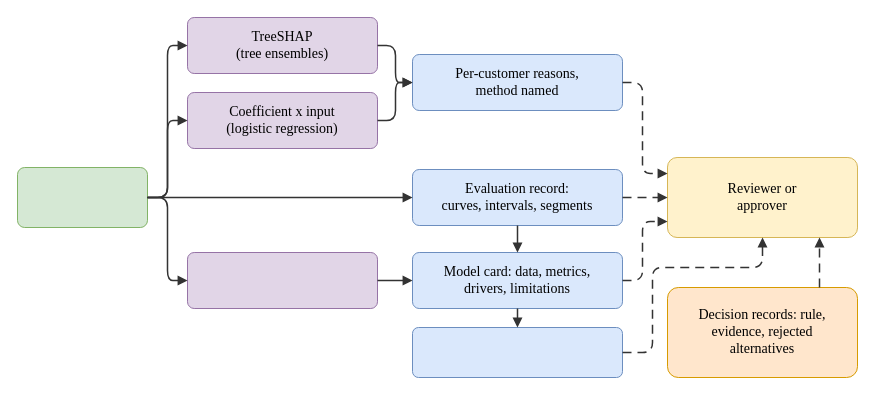
The diagram is 875 pixels wide and 395 high, and some of its shapes have lost their labels. The box of each missing label's shape, as (x1, y1, x2, y2) in pixels:
Claim-checked report: (412, 326, 622, 378)
Permutation importance (global ranking): (186, 252, 378, 308)
Selected model: (16, 166, 148, 228)
